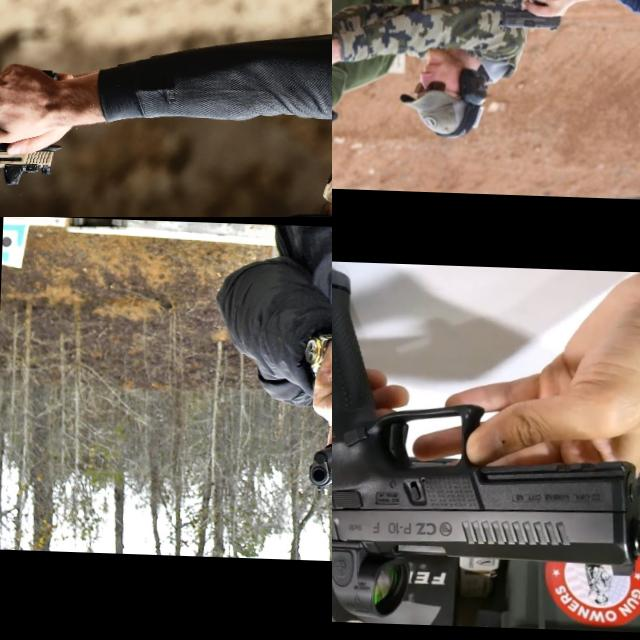handgun: (332, 258, 640, 631), (0, 108, 83, 186), (302, 395, 332, 494), (494, 0, 561, 35), (332, 58, 362, 87)
